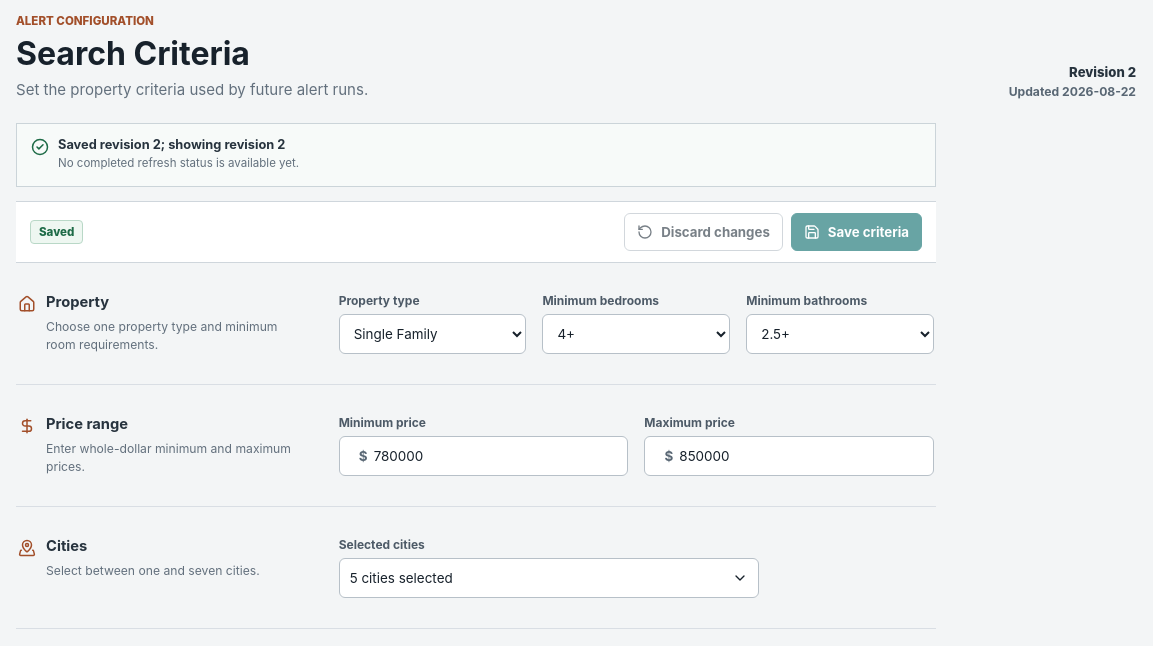
Scenario: SearchCriteriaScreen › tracks dirty state and discards edits
The width and height of the screenshot is (1153, 646).
Expected: the heading "Search Criteria" is shown, [16,34,250,73]
Expected: the button "Discard changes" is disabled, [624,213,783,251]
Select "Condo" in the dropdown labelled "Property type" at [432, 334], box [339,314,526,354]
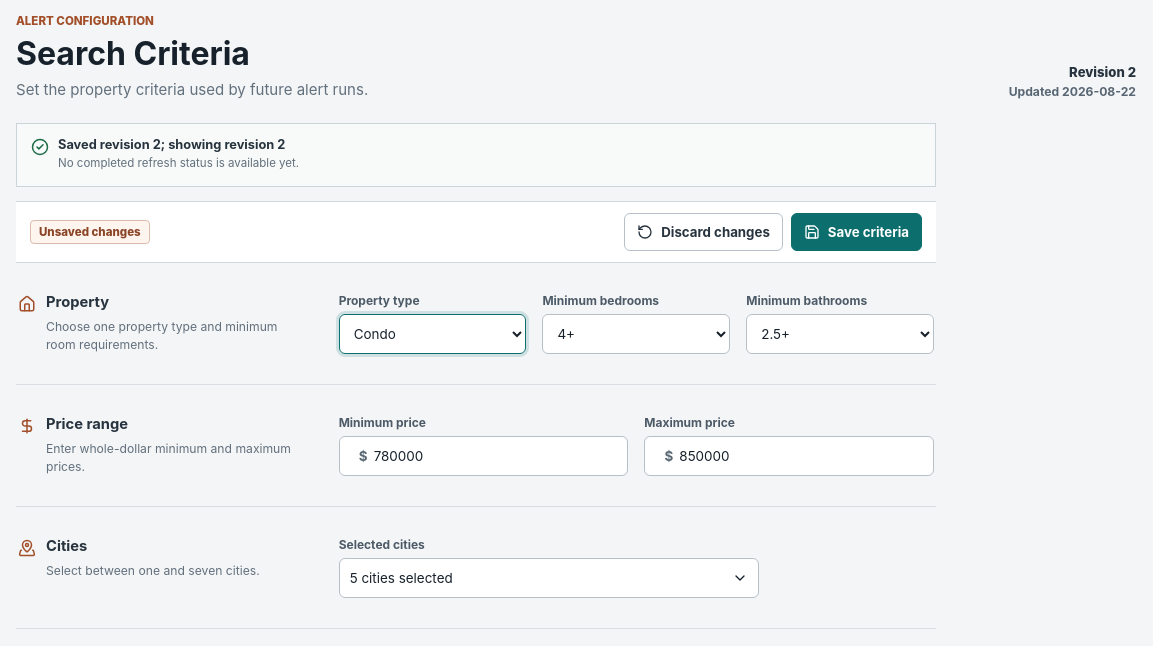
Result: the text "Unsaved changes" is shown at [30,220,150,244]
Result: the button "Discard changes" is enabled
Click the button "Discard changes" at [704, 232], box [624,213,783,251]
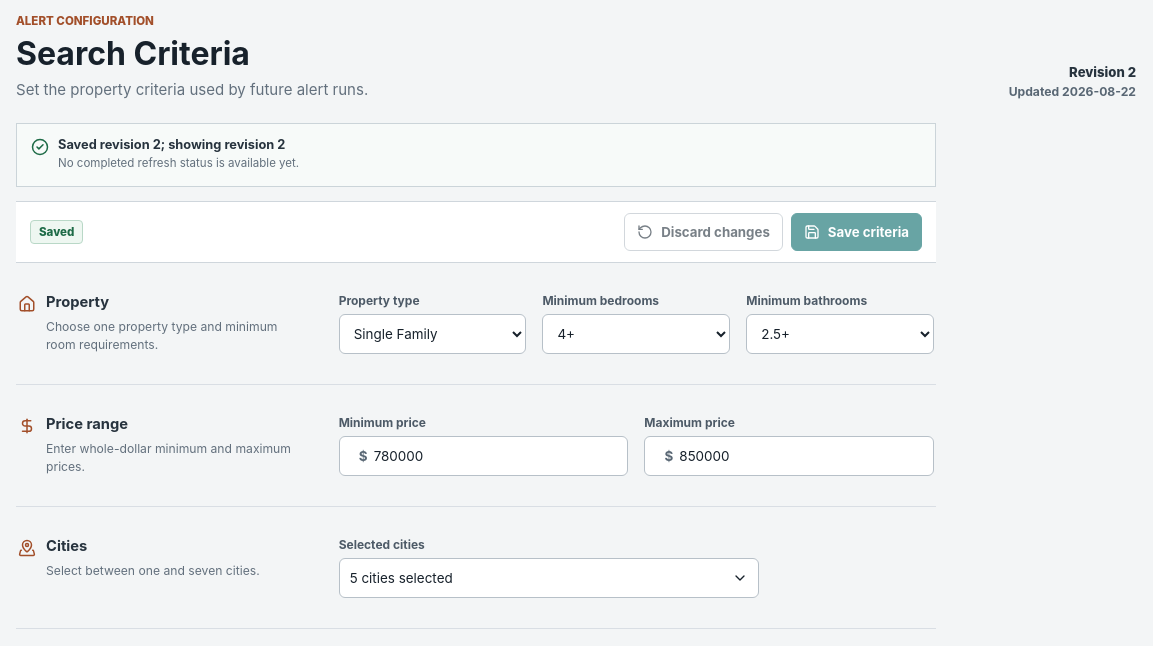
Expected: the text "Saved" is shown, [30,220,83,244]
Result: the button "Discard changes" is disabled at [624,213,783,251]
